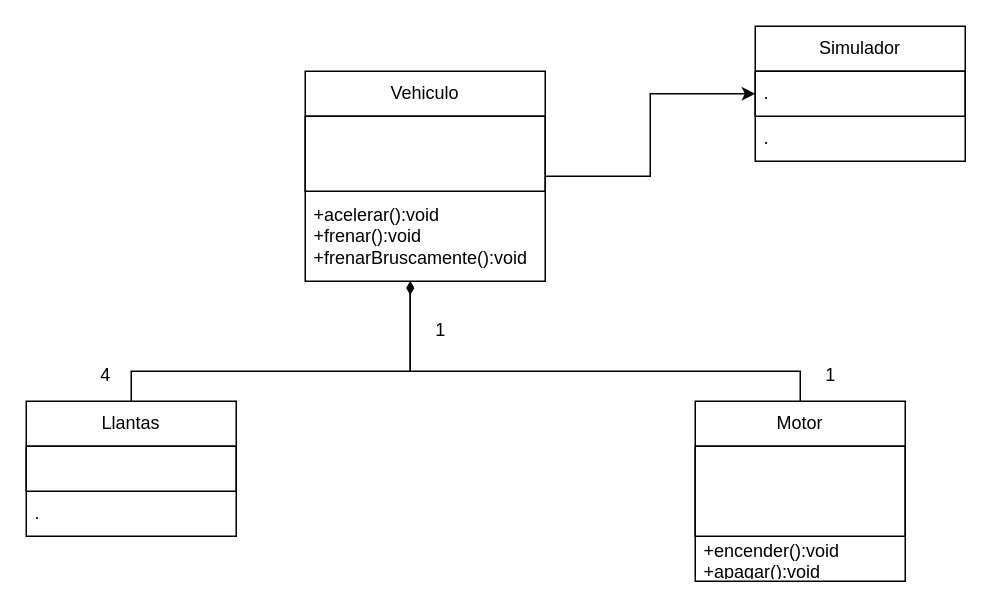
Image size: 992x608. Some labels were removed from this diagram. Here are the shapes that lost their labels. From the top down, the centre of each, then its label:
At point 424,153: "-marca: String -añofabricado: String".
At point 130,468: "-nombreTipo: String -limite:int".
At point 799,490: "-cilindraje:string -velocidadMax: int -estado: boolean".
